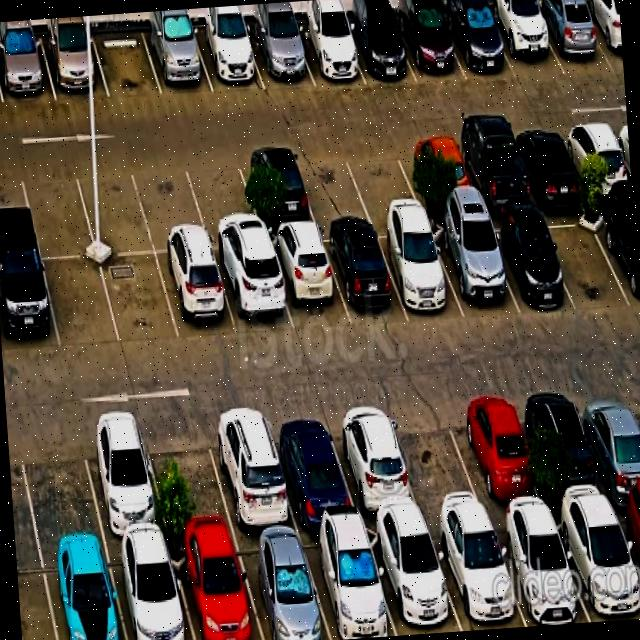empty: (384, 396, 488, 522), (140, 416, 235, 540), (15, 420, 104, 549), (538, 204, 632, 307), (183, 151, 264, 250), (73, 160, 154, 256), (132, 157, 210, 253), (18, 163, 96, 258), (100, 254, 179, 345), (42, 258, 120, 349), (292, 144, 371, 223), (343, 141, 422, 217), (91, 29, 162, 97)
occupied: (449, 390, 547, 516), (204, 405, 298, 534), (325, 402, 423, 522), (264, 407, 359, 529), (521, 386, 612, 511), (489, 514, 590, 626), (78, 417, 168, 542), (427, 518, 526, 631), (300, 528, 396, 640), (365, 525, 462, 635), (233, 534, 331, 640), (551, 506, 640, 622), (169, 537, 262, 640), (480, 214, 573, 313), (428, 219, 520, 319), (265, 228, 350, 333), (320, 224, 407, 325), (374, 222, 464, 318), (107, 541, 194, 640), (40, 545, 126, 640), (573, 384, 640, 505), (156, 251, 237, 341), (212, 248, 294, 335), (451, 131, 535, 212), (236, 147, 317, 229), (485, 5, 565, 80), (397, 136, 478, 210), (509, 125, 586, 202), (531, 3, 613, 75), (0, 256, 60, 354), (440, 7, 516, 80), (393, 8, 466, 83), (560, 121, 632, 196), (342, 15, 416, 84), (592, 202, 640, 308), (142, 27, 213, 95), (192, 27, 265, 93), (40, 32, 109, 101), (292, 21, 365, 86), (246, 24, 314, 89), (0, 35, 56, 104), (580, 0, 623, 70), (612, 502, 640, 582)
